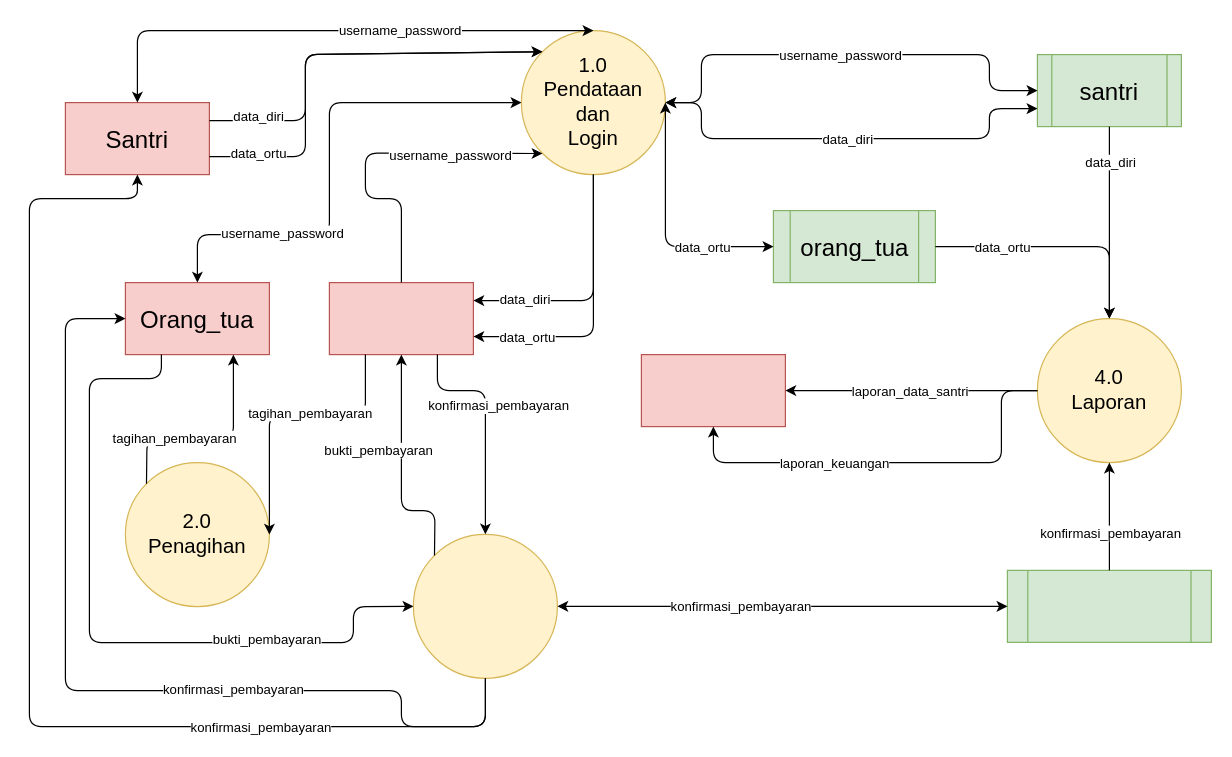
This 1232x757 diagram has some shape labels left out. The shapes that lost their labels are listed below. From the top down, each one's centre as x and y in pixels, then its label:
the point at 400,318: Admin
the point at 712,390: Pengurus
the point at 484,605: 3.0 Pembayaran
the point at 1108,605: pembayaran
